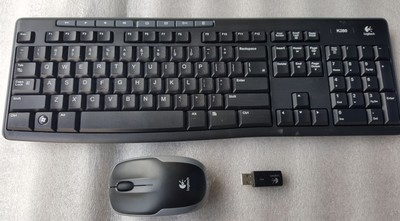keyboard: (2, 18, 399, 140)
mouse: (108, 155, 208, 215)
